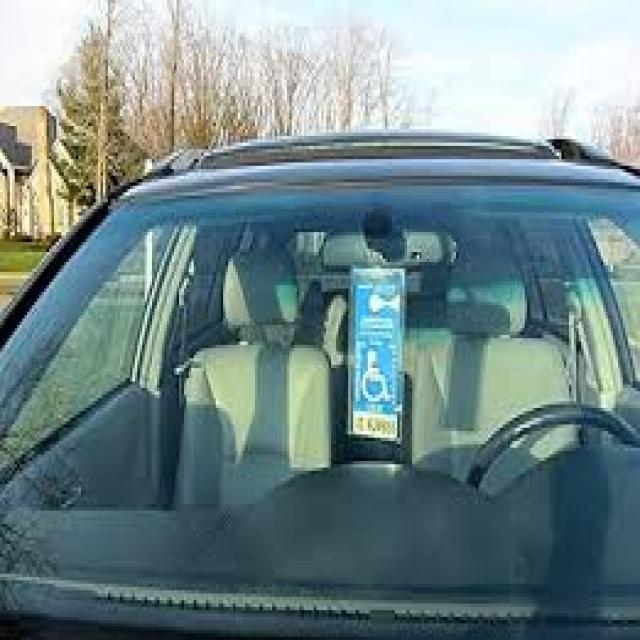car-handicap-placard: (359, 350, 397, 406)
